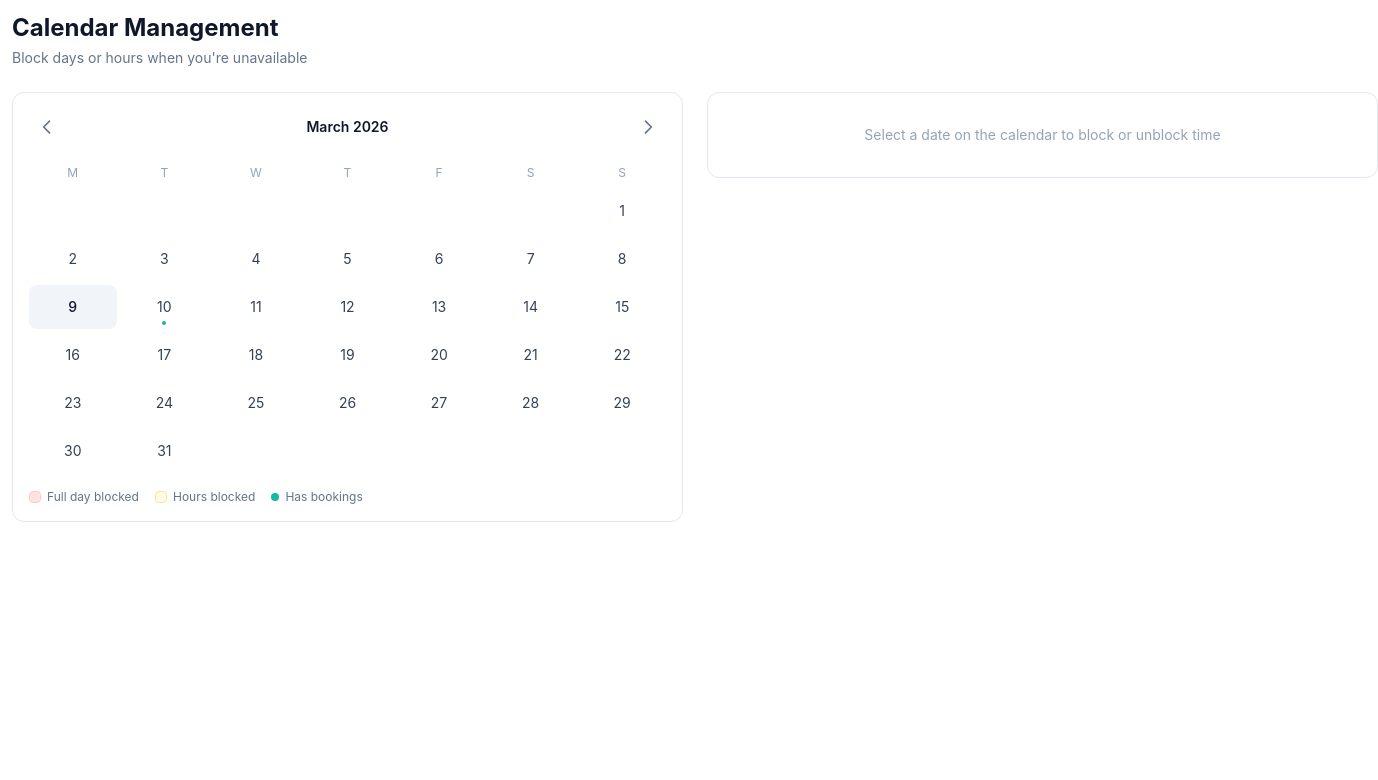
Calendar Page › shows correct status badge colors for bookings
Expected: the heading "Calendar Management" is shown, [12,13,278,42]
Click the button "10" at (164, 307), box [121,285,208,329]
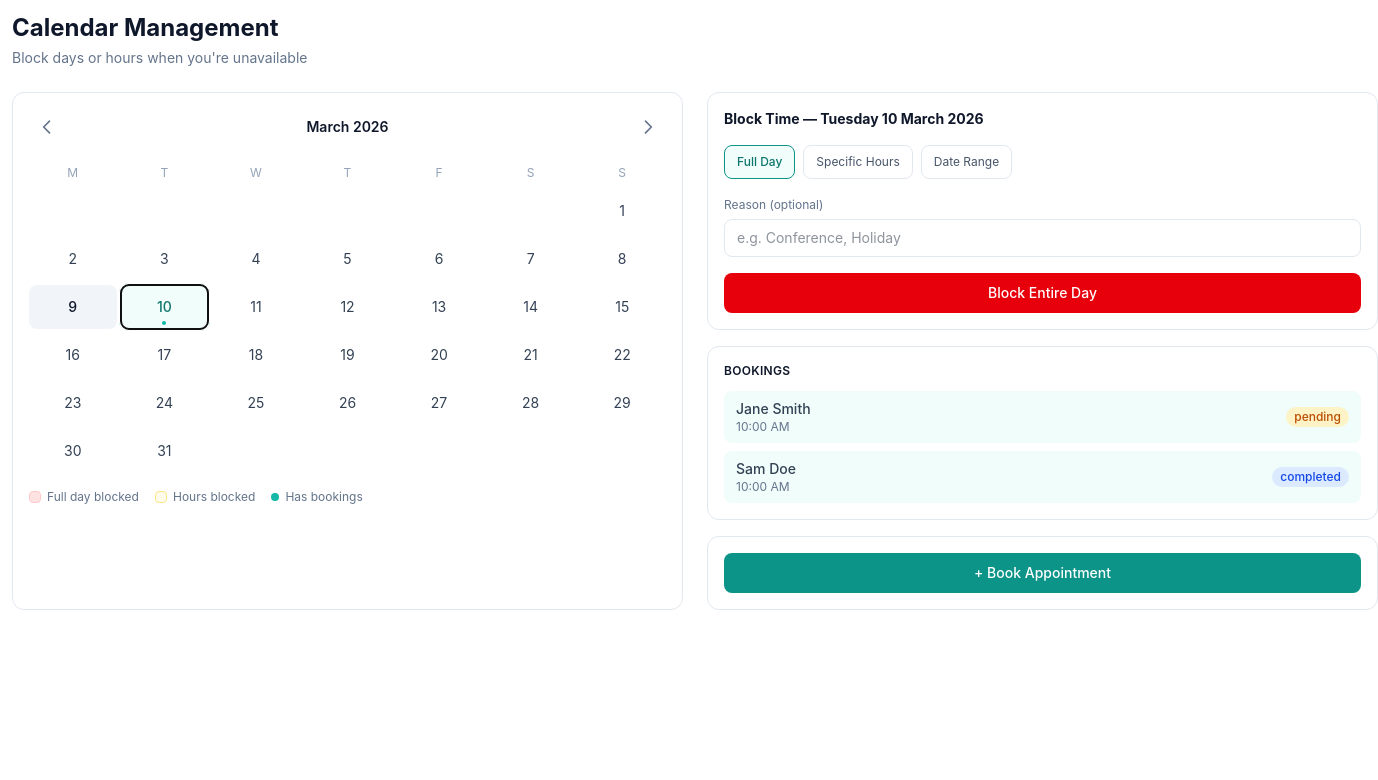
Now the text "pending" is shown, box [1286,407,1349,427]
Now the text "completed" is shown, box [1272,467,1349,487]
